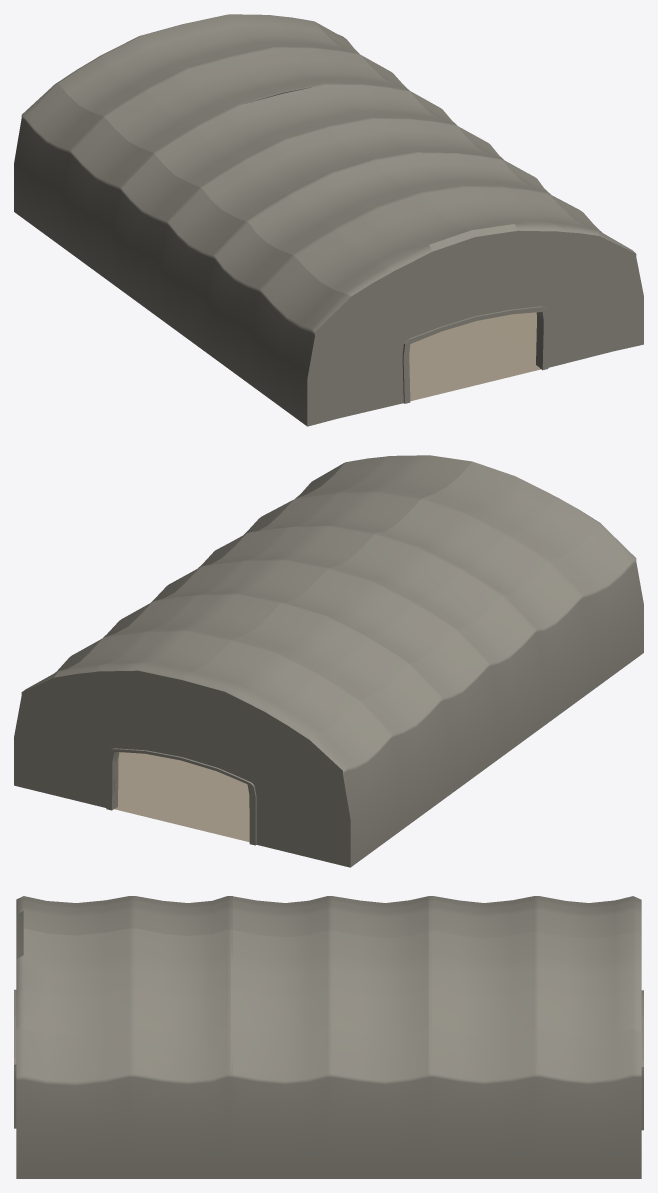
Rendered from LazerBuilding_PlaceHolder.fbx.
The picture shows the model from 3 angles, top to bottom: view 1: azimuth 30°, elevation 25°; view 2: azimuth 150°, elevation 25°; view 3: azimuth 270°, elevation 25°; orthographic projection. The views are drawn at different scales.
Visible parts, largest first — view 1: EntranceExteriorCap, ExitCapExterior, MiddleSectionExterior, LazerBuilding_Floor; view 2: ExitCapExterior, EntranceExteriorCap, MiddleSectionExterior, LazerBuilding_Floor; view 3: EntranceExteriorCap, ExitCapExterior, MiddleSectionExterior.
Boxes of the visible parts, <box> form: EntranceExteriorCap: <box>205,152,643,426</box>; ExitCapExterior: <box>14,14,441,284</box>; MiddleSectionExterior: <box>114,84,528,351</box>; LazerBuilding_Floor: <box>409,312,540,401</box>; ExitCapExterior: <box>14,594,450,867</box>; EntranceExteriorCap: <box>214,455,643,726</box>; MiddleSectionExterior: <box>151,526,542,794</box>; LazerBuilding_Floor: <box>114,752,249,842</box>; EntranceExteriorCap: <box>14,896,232,1178</box>; ExitCapExterior: <box>428,896,643,1178</box>; MiddleSectionExterior: <box>231,896,428,1178</box>.
Bounding box in the file's own units: 5823 × 2533 × 8860.
